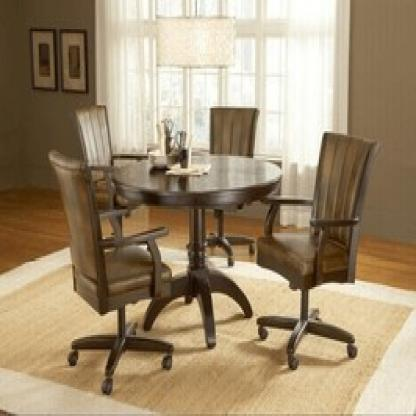chair: (43, 147, 196, 405), (247, 122, 394, 371), (199, 90, 263, 271), (74, 98, 155, 219)
light: (143, 2, 251, 77)
table: (102, 148, 275, 332)
